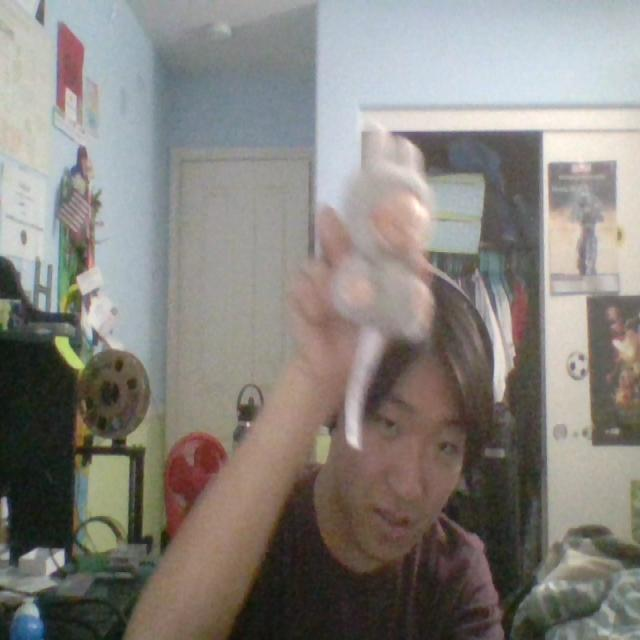labubu: (335, 131, 433, 341)
